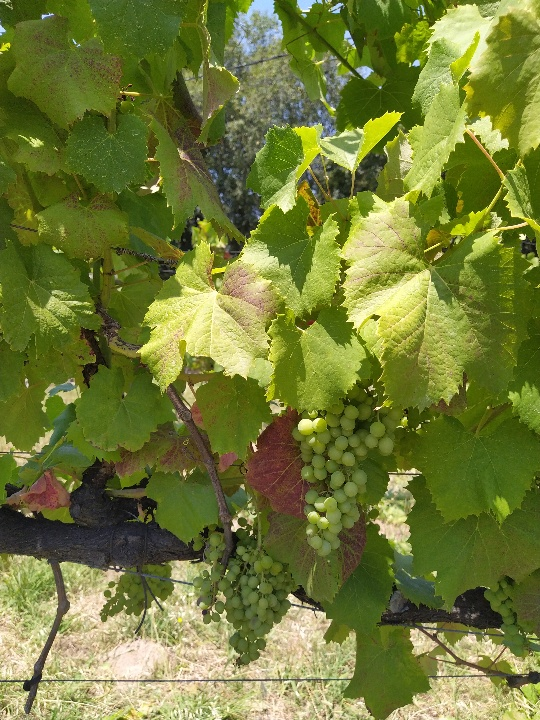grape: (293, 379, 396, 561), (188, 508, 296, 667), (95, 564, 173, 633)
